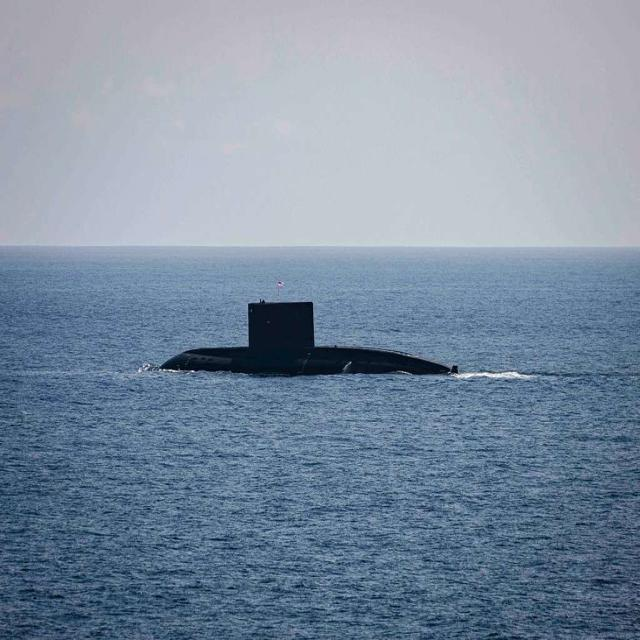Submarine-Sindhughosh-Class-IND: (150, 268, 462, 378)
